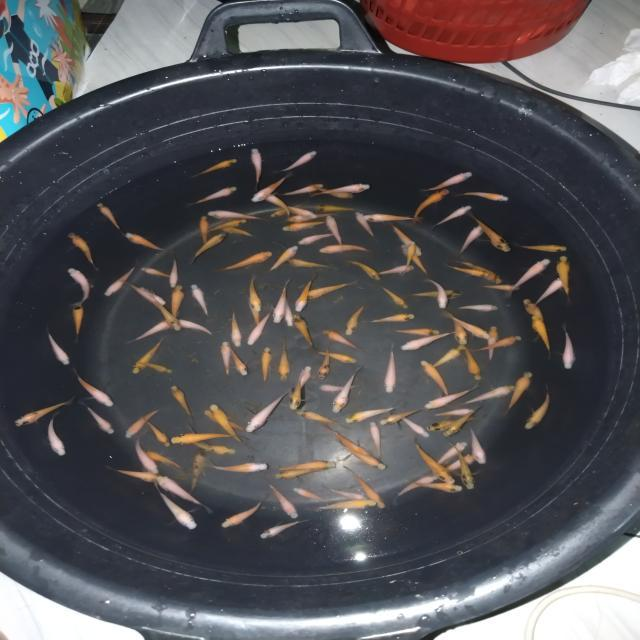nila: (208, 401, 256, 453), (156, 472, 212, 514), (154, 483, 200, 530), (414, 438, 458, 487), (244, 391, 291, 434), (9, 397, 72, 429), (446, 440, 482, 494), (468, 212, 512, 255), (329, 364, 366, 414), (346, 465, 389, 508), (421, 382, 482, 412), (72, 368, 116, 408), (497, 369, 536, 414), (520, 384, 557, 431), (220, 494, 268, 530), (338, 400, 406, 425), (508, 258, 550, 298), (398, 329, 464, 353), (101, 464, 166, 488), (410, 188, 452, 225), (66, 229, 102, 271), (125, 316, 173, 347), (131, 432, 164, 477), (217, 249, 276, 274), (248, 172, 292, 205), (79, 398, 117, 436), (60, 267, 95, 308), (326, 424, 370, 456), (264, 482, 300, 521), (441, 405, 484, 437), (530, 274, 570, 308), (258, 516, 310, 542), (301, 280, 357, 304), (190, 230, 228, 265), (457, 259, 506, 286), (340, 444, 390, 470), (388, 220, 424, 256), (391, 474, 438, 501), (417, 358, 450, 396), (43, 324, 71, 368), (321, 327, 368, 353), (201, 406, 248, 432), (401, 243, 434, 280), (130, 338, 163, 375), (462, 336, 523, 356), (426, 343, 467, 372), (422, 170, 476, 192), (123, 408, 161, 439), (444, 314, 493, 338), (191, 156, 240, 180), (121, 280, 166, 306), (168, 428, 232, 446), (189, 184, 239, 207), (464, 384, 516, 406), (528, 314, 554, 358), (428, 440, 468, 468), (267, 280, 293, 323), (187, 436, 240, 457), (380, 407, 428, 430), (124, 231, 172, 254), (265, 244, 303, 273), (46, 408, 68, 458), (306, 181, 374, 197), (104, 264, 136, 298), (135, 450, 189, 470), (150, 294, 178, 332), (310, 499, 380, 514), (430, 204, 473, 228), (278, 147, 319, 172), (427, 414, 478, 434), (292, 312, 316, 354), (246, 308, 271, 348), (95, 200, 124, 234), (523, 298, 546, 340), (168, 317, 214, 338), (208, 461, 272, 476), (360, 212, 428, 226), (189, 445, 209, 492), (170, 384, 195, 421), (466, 424, 488, 466), (456, 224, 484, 257), (437, 453, 477, 476), (345, 258, 383, 282), (315, 341, 336, 384), (322, 484, 372, 502), (290, 410, 340, 428), (144, 418, 172, 450), (446, 310, 469, 348), (424, 278, 452, 309), (556, 253, 573, 304), (382, 342, 398, 396), (276, 460, 342, 473), (455, 189, 512, 204), (462, 346, 485, 383), (378, 285, 412, 310), (72, 300, 89, 350), (313, 346, 360, 364), (264, 190, 292, 220), (294, 274, 316, 312), (561, 323, 578, 372), (399, 412, 431, 438), (366, 420, 386, 460), (169, 283, 185, 333), (309, 183, 356, 200), (248, 142, 265, 189), (202, 216, 255, 231), (446, 263, 490, 281), (204, 208, 270, 220), (218, 222, 262, 240), (287, 256, 336, 272), (405, 480, 465, 493), (412, 285, 467, 299), (190, 282, 212, 317), (272, 467, 322, 482), (248, 275, 268, 312), (227, 345, 250, 377), (244, 296, 265, 331), (284, 210, 336, 224), (288, 372, 306, 412), (275, 337, 290, 384), (290, 486, 328, 504), (280, 220, 328, 234), (322, 214, 344, 244), (282, 202, 318, 220), (346, 302, 365, 336), (485, 321, 500, 364), (354, 210, 377, 238), (281, 182, 326, 196), (264, 202, 306, 217), (518, 242, 570, 254), (363, 313, 419, 324), (278, 294, 296, 328), (298, 232, 338, 247), (134, 361, 174, 376), (392, 326, 441, 338), (218, 338, 232, 380), (138, 264, 174, 280), (317, 382, 364, 394), (376, 264, 416, 278), (229, 308, 243, 348), (296, 363, 314, 394), (260, 346, 272, 389), (312, 202, 360, 212), (168, 253, 180, 291), (452, 303, 502, 312), (434, 406, 478, 416), (481, 283, 524, 293), (317, 246, 376, 253), (198, 213, 210, 244), (138, 286, 156, 306), (404, 241, 418, 266)
